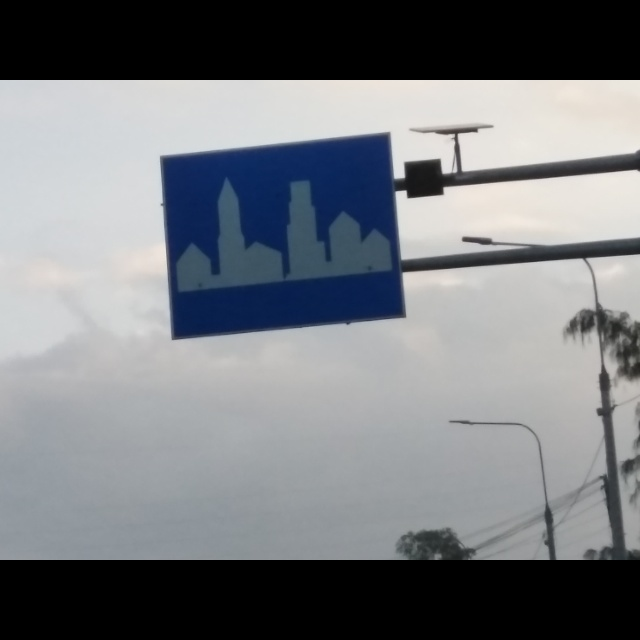Khu đông dân cư: (160, 128, 411, 349)
